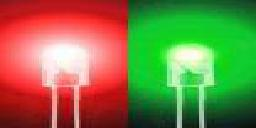LED: (35, 39, 96, 128), (163, 40, 216, 128)
